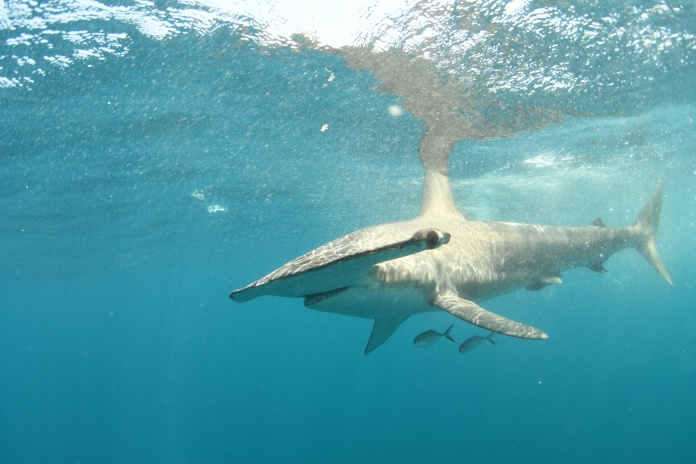Hammer: (210, 146, 695, 379)
